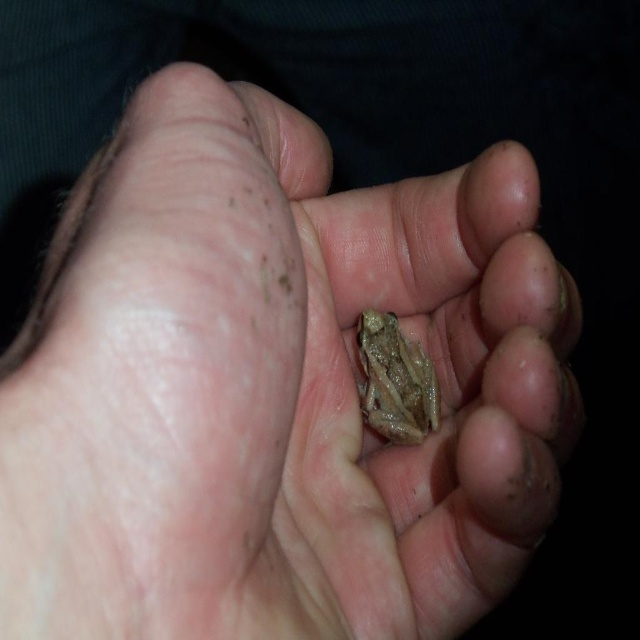Frog: (358, 305, 444, 447)
